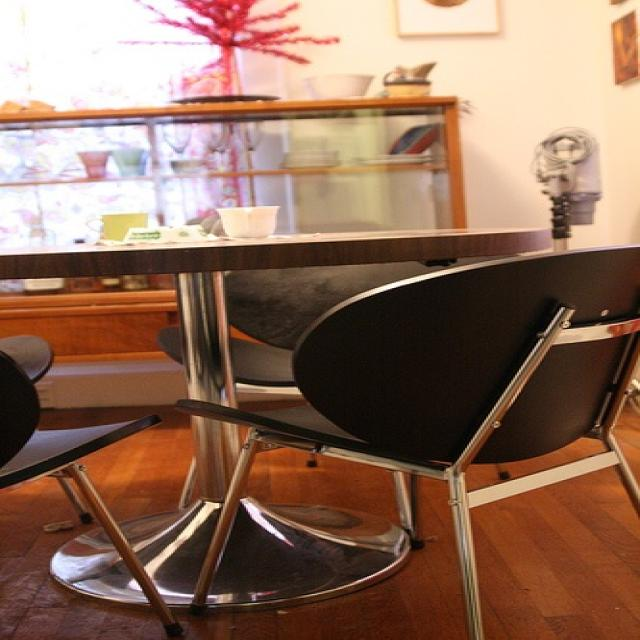chair: (169, 241, 638, 638), (146, 253, 532, 548), (0, 349, 190, 638)
